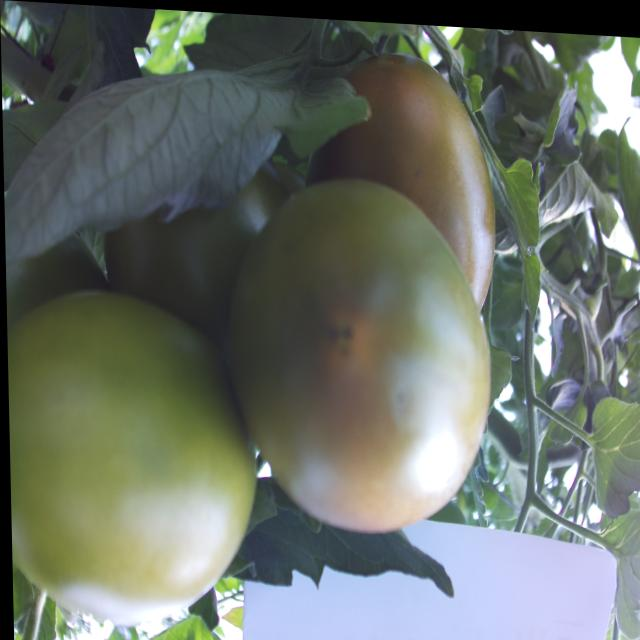yesil: (238, 171, 512, 560), (9, 269, 247, 611)
